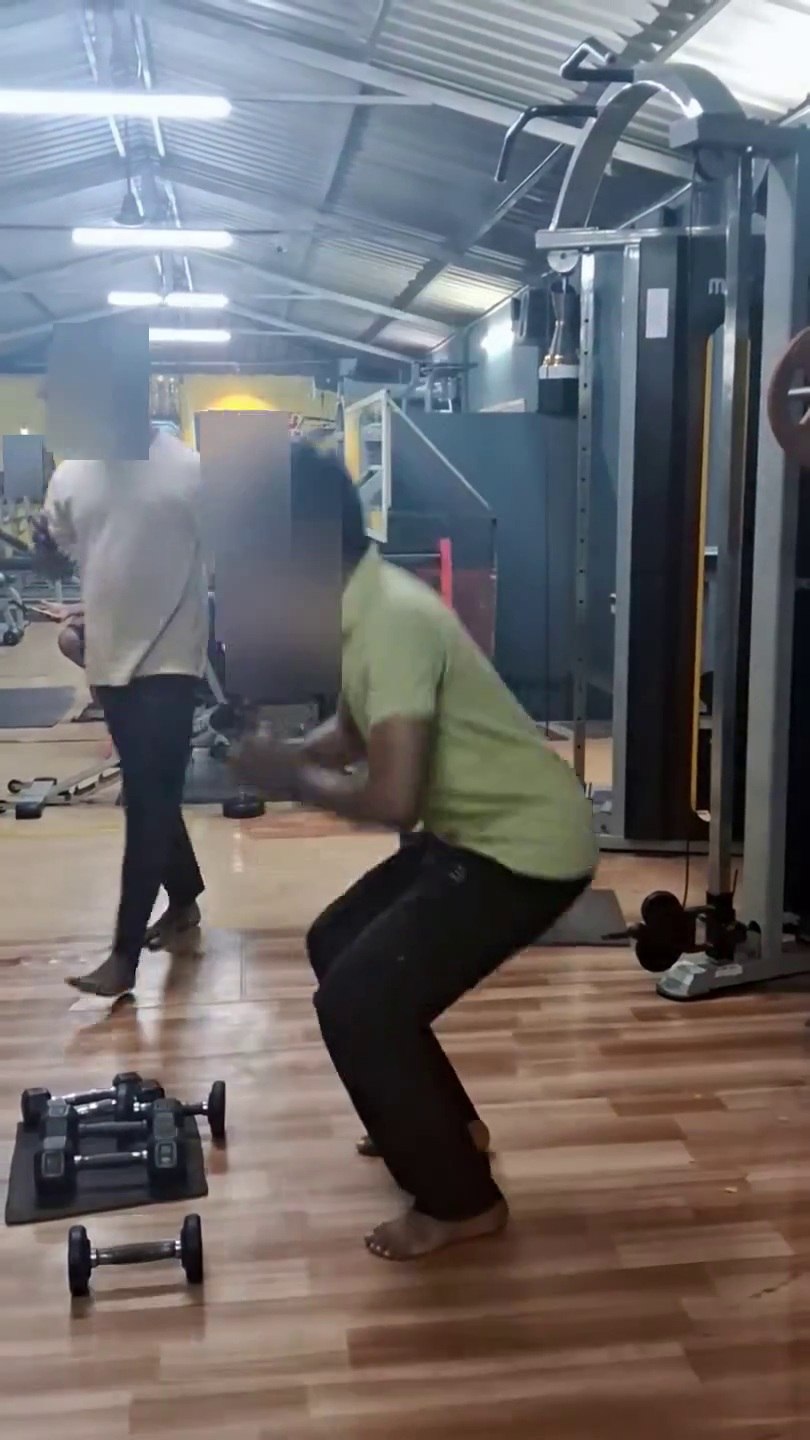squat_correct: (209, 441, 742, 1318)
